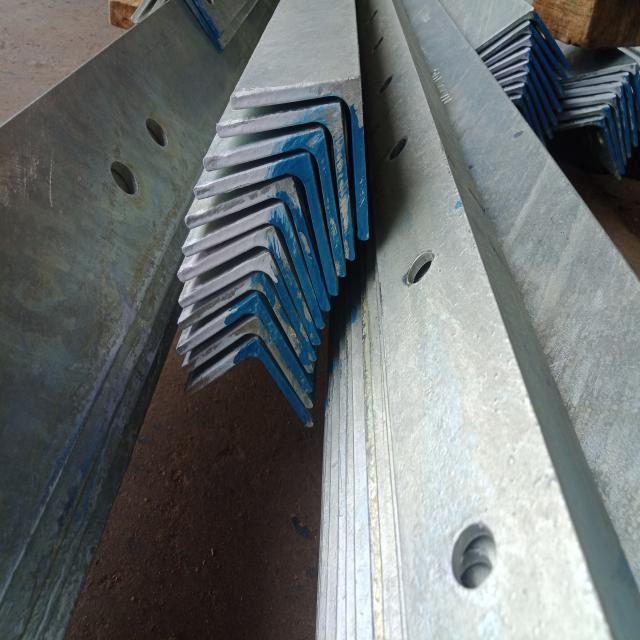metal-angles: (230, 74, 370, 241), (216, 101, 355, 262), (204, 127, 347, 277), (193, 153, 338, 296), (185, 176, 331, 312), (182, 202, 325, 330), (178, 225, 321, 345), (179, 252, 318, 361), (176, 291, 312, 393), (178, 271, 313, 373), (182, 314, 313, 408), (185, 338, 314, 427)
